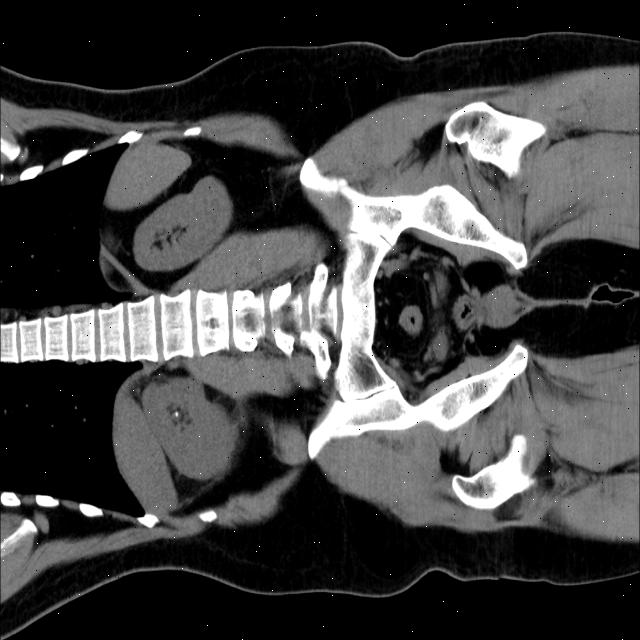kidneystone: (166, 404, 186, 414)
